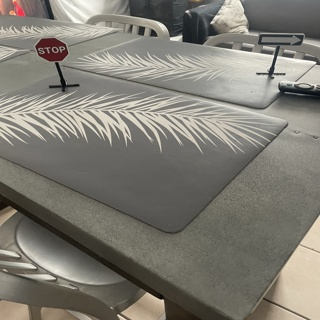sign_oneway_right: (255, 31, 304, 46)
sign_stop: (32, 35, 71, 62)
